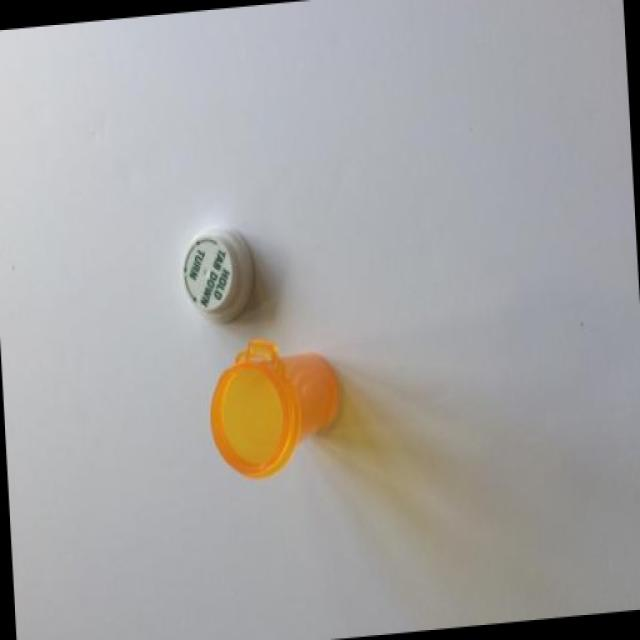plastico: (173, 180, 383, 565)
